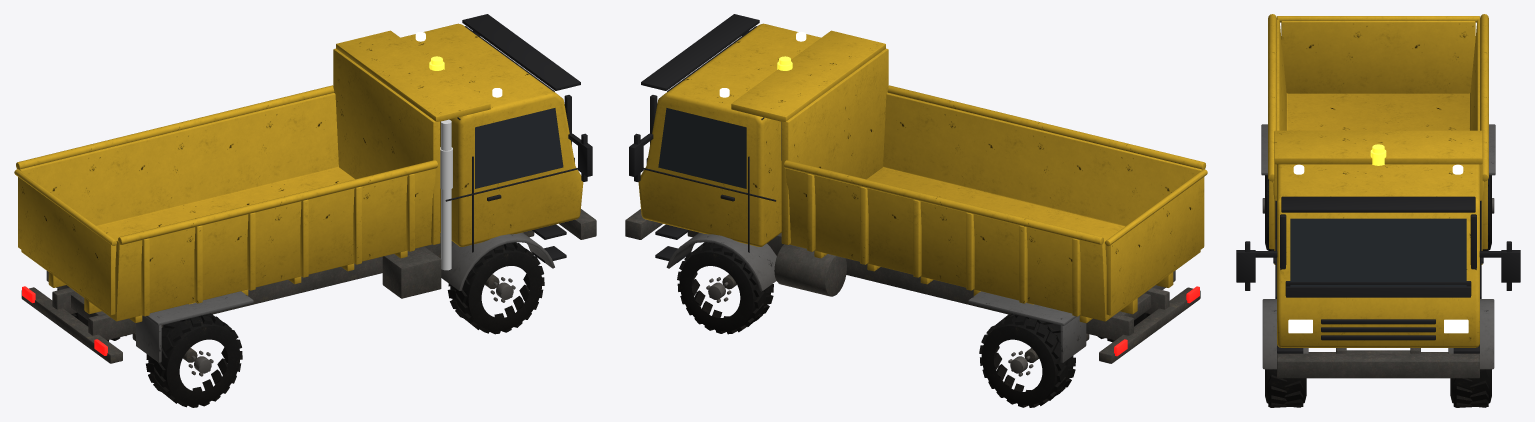
The model's file is truck_used.glb.
3 renders of one model, left to right at view 1: azimuth 30°, elevation 25°; view 2: azimuth 150°, elevation 25°; view 3: azimuth 270°, elevation 25°, orthographic. The views are drawn at different scales.
Visible parts, largest first — view 1: Bed, Cab, Chassis, CabGlass, Wheel3_Tyre, CabDetails, Wheel1_Tyre, Mudguards, Exhaust; view 2: Bed, Cab, Chassis, CabGlass, Wheel2_Tyre, CabDetails, Wheel0_Tyre, Mudguards; view 3: Bed, Cab, CabGlass, CabDetails, Chassis, Interior, Mudguards, Wheel0_Tyre, Wheel1_Tyre, Headlights, Wheel2_Tyre, Wheel3_Tyre (+1 smaller).
Boxes of the visible parts, left/top/right/bottom form: Bed: left=14, top=30, right=490, bottom=322; Cab: left=401, top=23, right=583, bottom=246; Chassis: left=21, top=209, right=596, bottom=363; CabGlass: left=440, top=108, right=563, bottom=188; Wheel3_Tyre: left=146, top=313, right=242, bottom=407; CabDetails: left=445, top=14, right=592, bottom=262; Wheel1_Tyre: left=447, top=242, right=544, bottom=334; Mudguards: left=46, top=232, right=554, bottom=362; Exhaust: left=440, top=119, right=452, bottom=270; Bed: left=731, top=30, right=1207, bottom=323; Cab: left=638, top=23, right=820, bottom=246; Chassis: left=625, top=209, right=1200, bottom=363; CabGlass: left=658, top=108, right=781, bottom=188; Wheel2_Tyre: left=979, top=313, right=1075, bottom=407; CabDetails: left=629, top=14, right=776, bottom=262; Wheel0_Tyre: left=677, top=242, right=773, bottom=334; Mudguards: left=666, top=232, right=1175, bottom=362; Bed: left=1268, top=14, right=1488, bottom=264; Cab: left=1277, top=164, right=1479, bottom=347; CabGlass: left=1290, top=218, right=1466, bottom=286; CabDetails: left=1236, top=196, right=1520, bottom=353; Chassis: left=1277, top=348, right=1479, bottom=378; Interior: left=1280, top=214, right=1476, bottom=297; Mudguards: left=1261, top=124, right=1495, bottom=369; Wheel0_Tyre: left=1450, top=369, right=1491, bottom=407; Wheel1_Tyre: left=1265, top=369, right=1306, bottom=407; Headlights: left=1288, top=164, right=1468, bottom=333; Wheel2_Tyre: left=1482, top=175, right=1491, bottom=250; Wheel3_Tyre: left=1265, top=175, right=1274, bottom=250.
Size of the model in its own units: 6.59 by 3.11 by 3.22.
11 materials, 4 textured.
